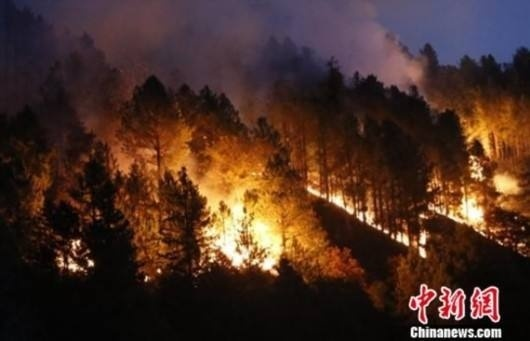fire: (305, 167, 429, 256), (425, 140, 521, 244), (193, 185, 286, 275), (51, 232, 97, 275)
